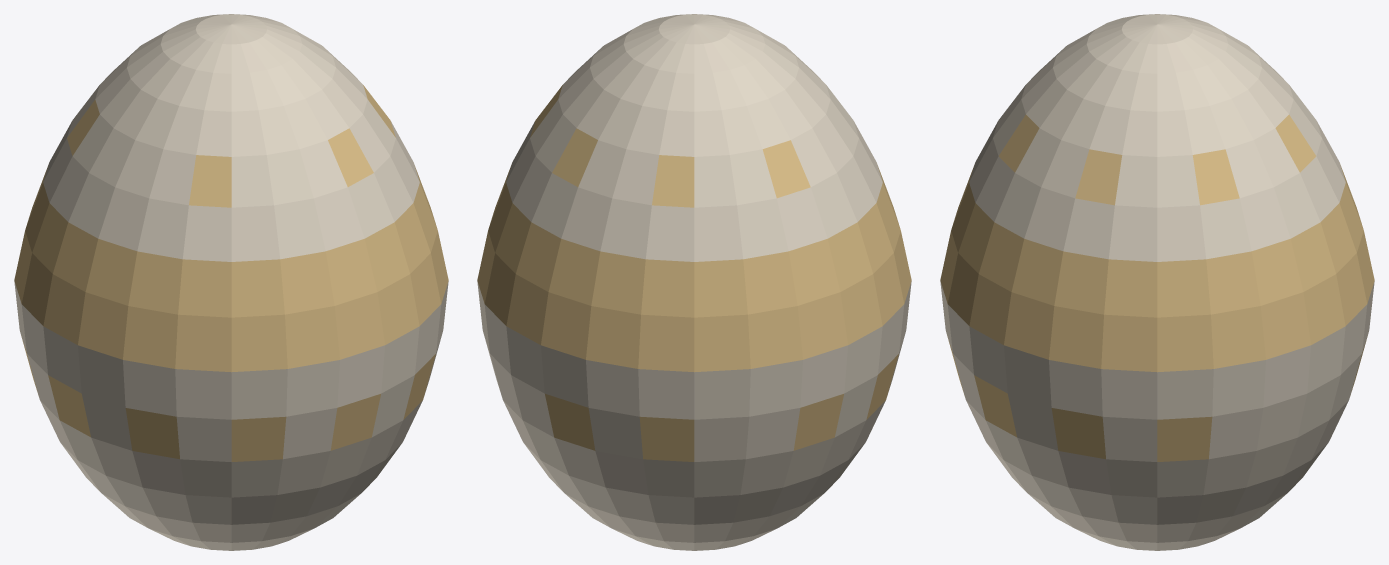
File: Egg_farm.fbx
The picture shows the model from 3 angles, left to right: view 1: azimuth 30°, elevation 25°; view 2: azimuth 150°, elevation 25°; view 3: azimuth 270°, elevation 25°; orthographic projection.
Visible parts, largest first — view 1: Egg_farm; view 2: Egg_farm; view 3: Egg_farm.
Part boxes in pixels (x1=…): Egg_farm: x1=14, y1=14, x2=448, y2=550; Egg_farm: x1=477, y1=14, x2=911, y2=550; Egg_farm: x1=940, y1=14, x2=1374, y2=550.
Size of the model in its own units: 28 by 36.4 by 28.
